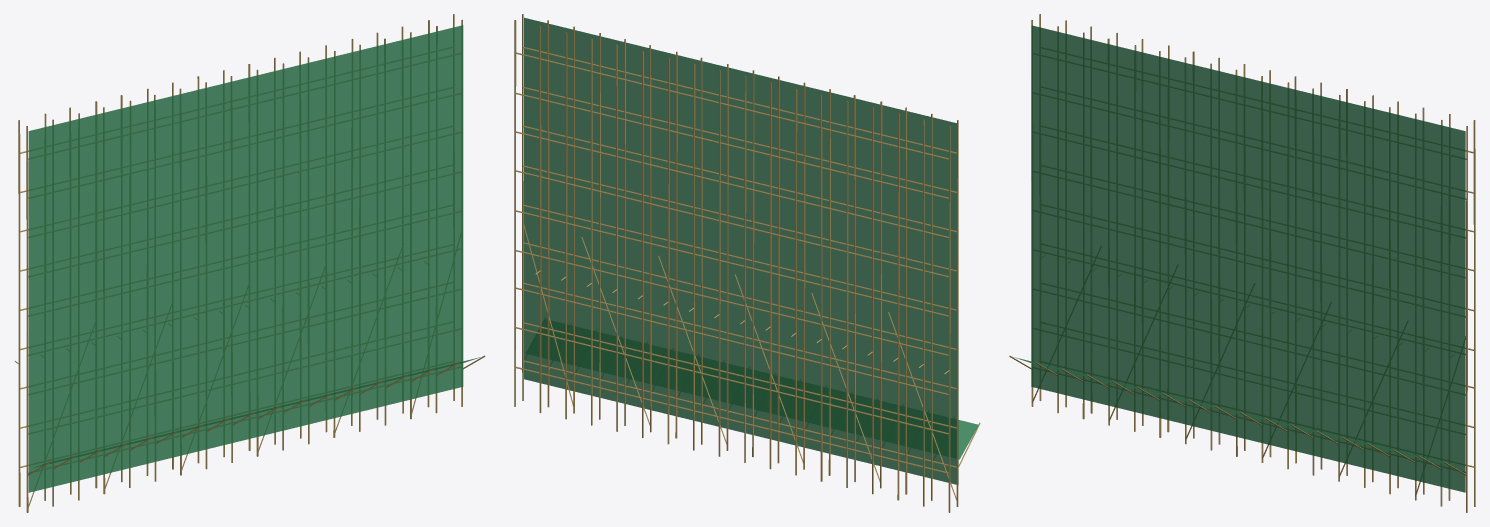
Rendered from hk-verandah-tonglau-scaffold.glb.
The picture shows the model from 3 angles, left to right: view 1: azimuth 30°, elevation 25°; view 2: azimuth 150°, elevation 25°; view 3: azimuth 330°, elevation 25°; orthographic projection.
Visible parts, largest first — view 1: Scaffold_net, Scaffold_bamboo; view 2: Scaffold_net, Scaffold_bamboo; view 3: Scaffold_net, Scaffold_bamboo.
Boxes of the visible parts, bbox=[...] form: Scaffold_net: bbox=[28, 25, 480, 492]; Scaffold_bamboo: bbox=[14, 14, 485, 512]; Scaffold_net: bbox=[524, 17, 978, 484]; Scaffold_bamboo: bbox=[514, 14, 980, 512]; Scaffold_net: bbox=[1013, 25, 1465, 492]; Scaffold_bamboo: bbox=[1009, 14, 1475, 512].
Bounding box in the file's own units: 22.1 × 18.7 × 3.12.
